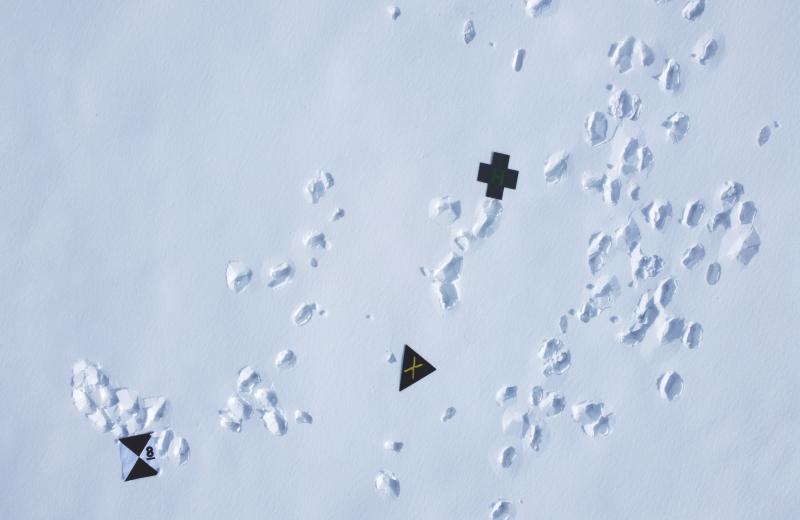Cross: (476, 148, 522, 203)
Triangle: (399, 342, 438, 395)
